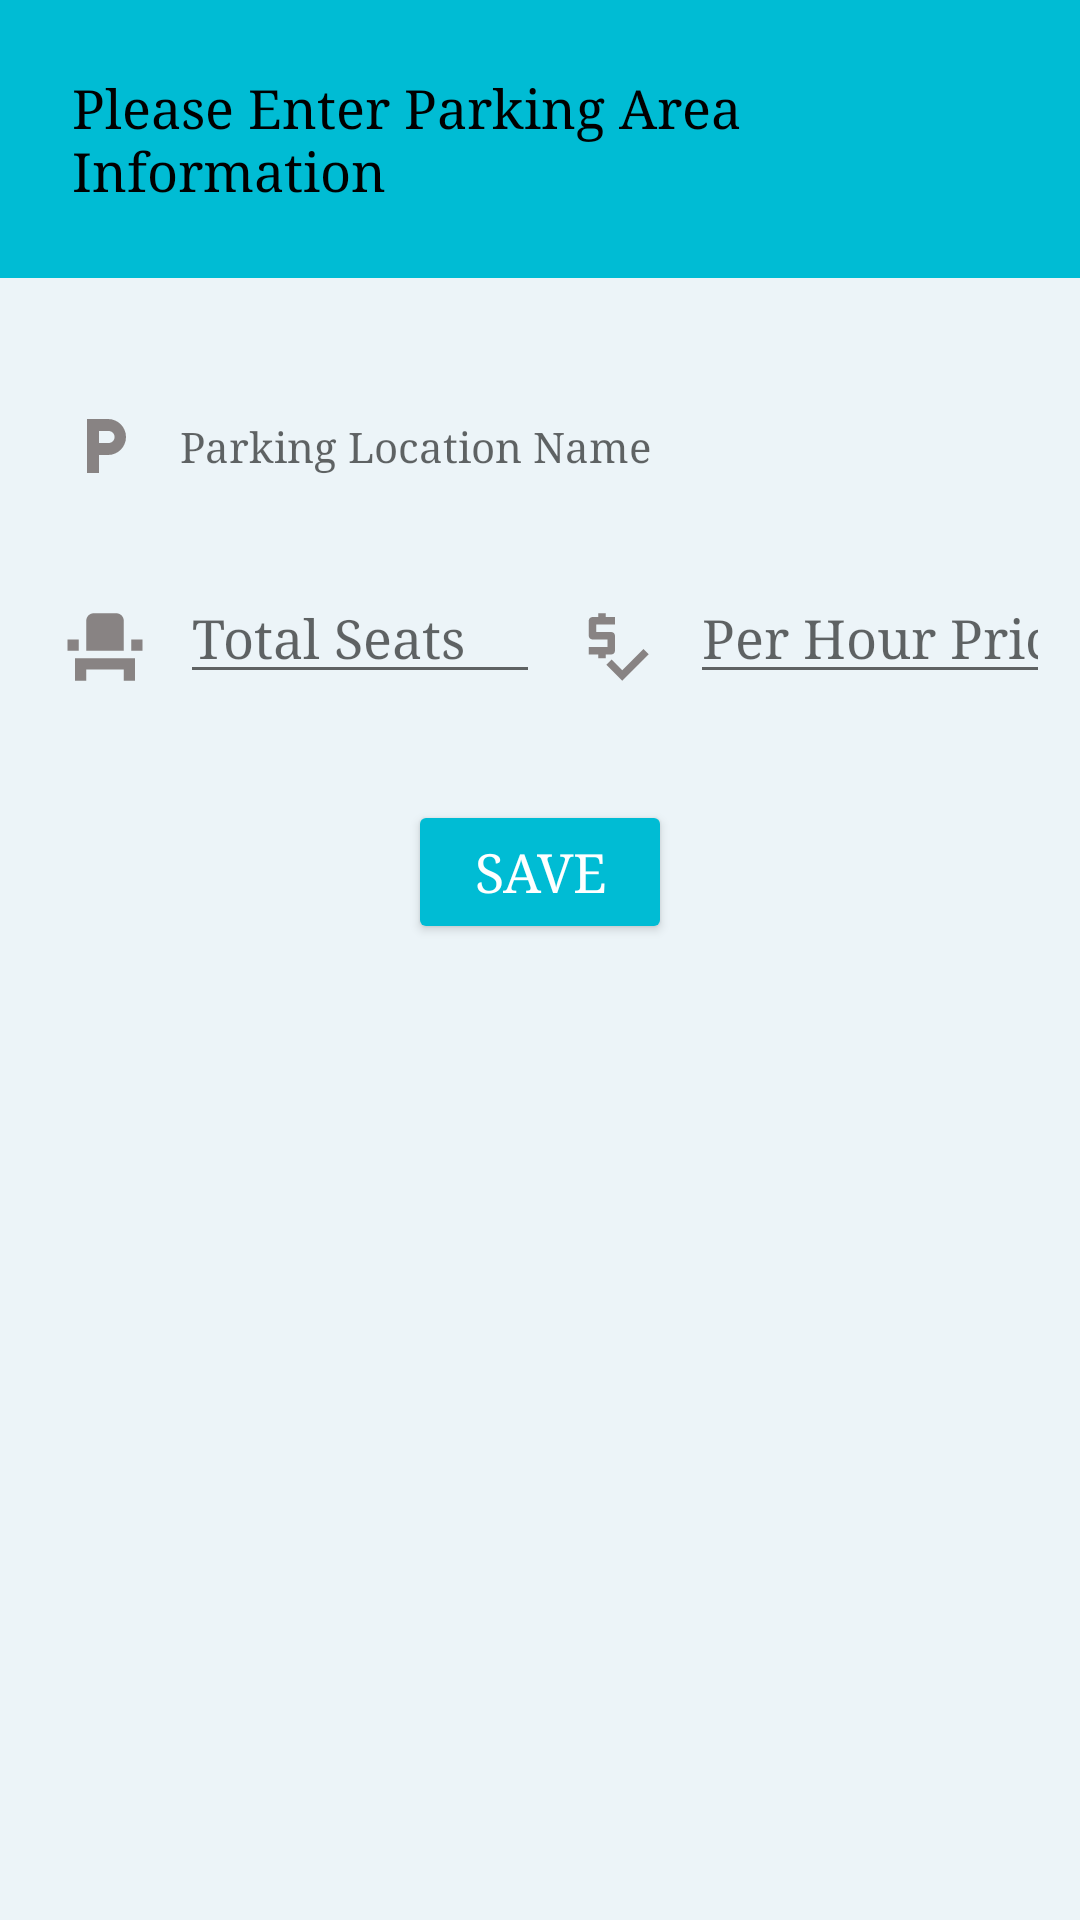

Where to tap for icons on this 1080px x 1920px app screen, as [x,y]:
event seat: [105,647]
local parking: [106,446]
price check: [618,647]
